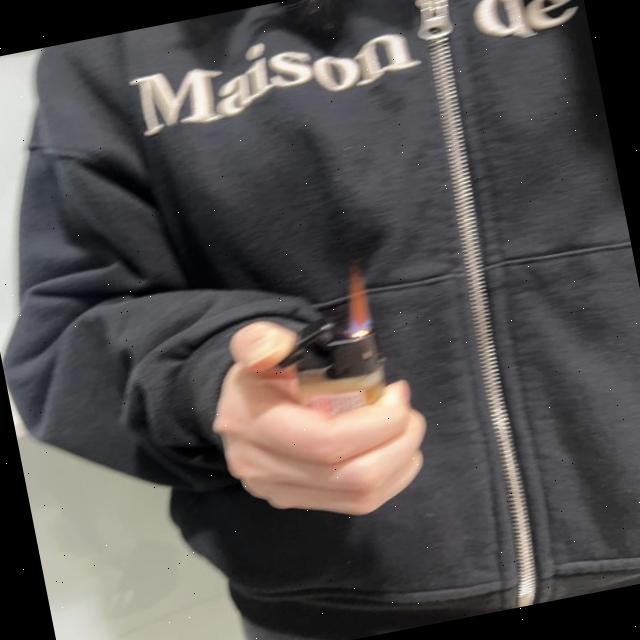fire: (342, 267, 374, 333)
